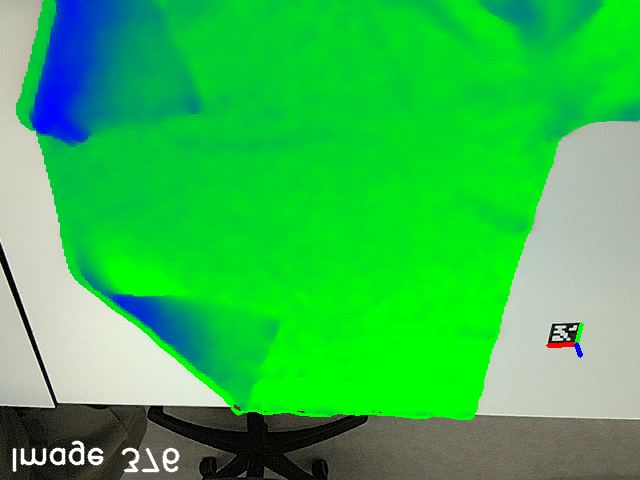V: (157, 71, 215, 127), (231, 296, 291, 346)
